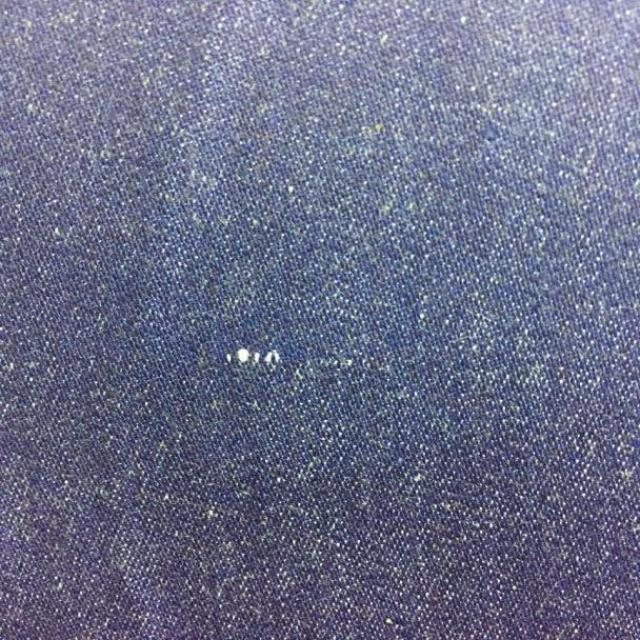Knot: (225, 348, 281, 368)
